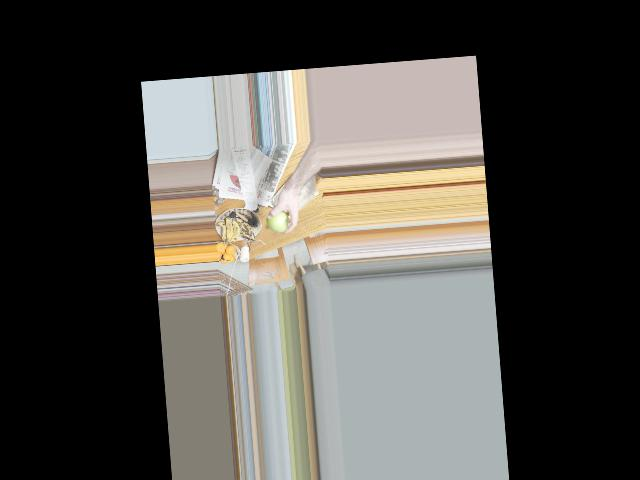apple: (270, 208, 288, 233)
